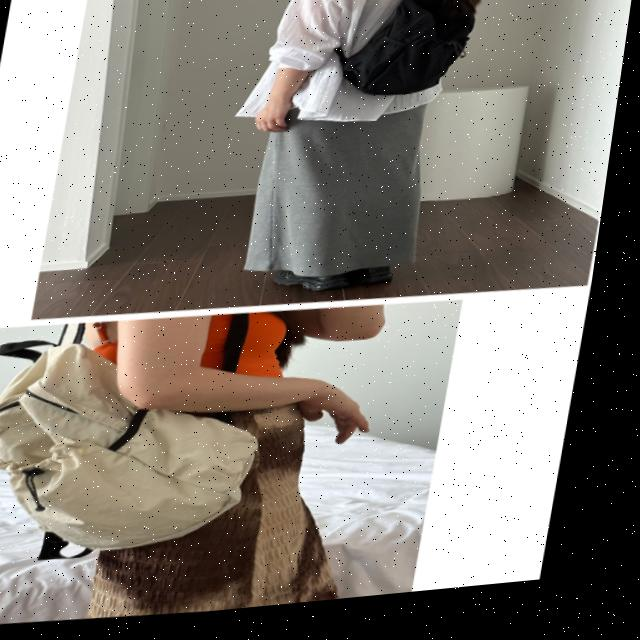backpack: (0, 311, 317, 570), (296, 0, 507, 125)
